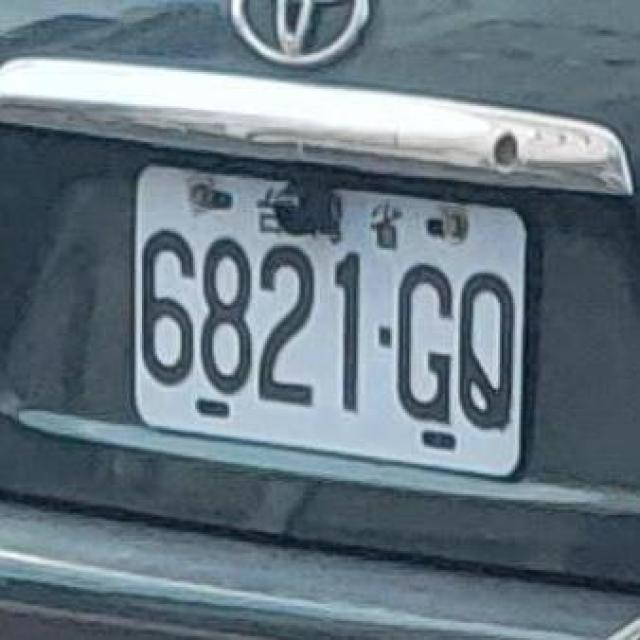W: (99, 122, 566, 510)
